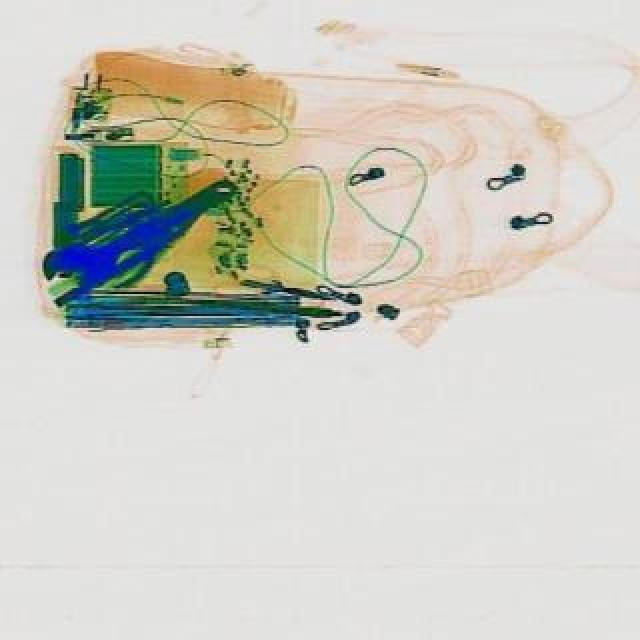scissors: (38, 164, 254, 310)
